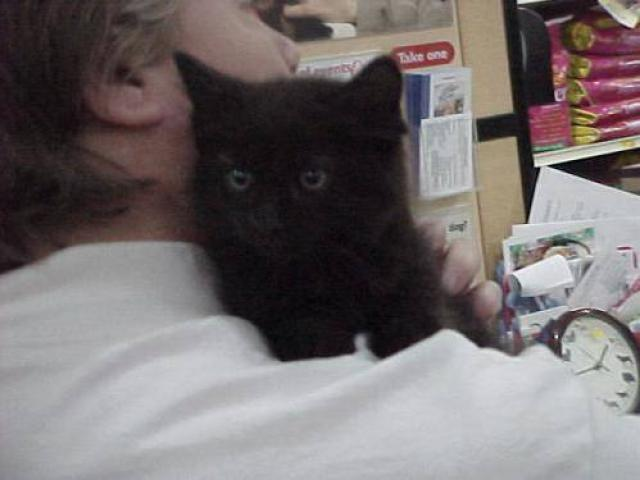cat: (175, 48, 479, 370)
